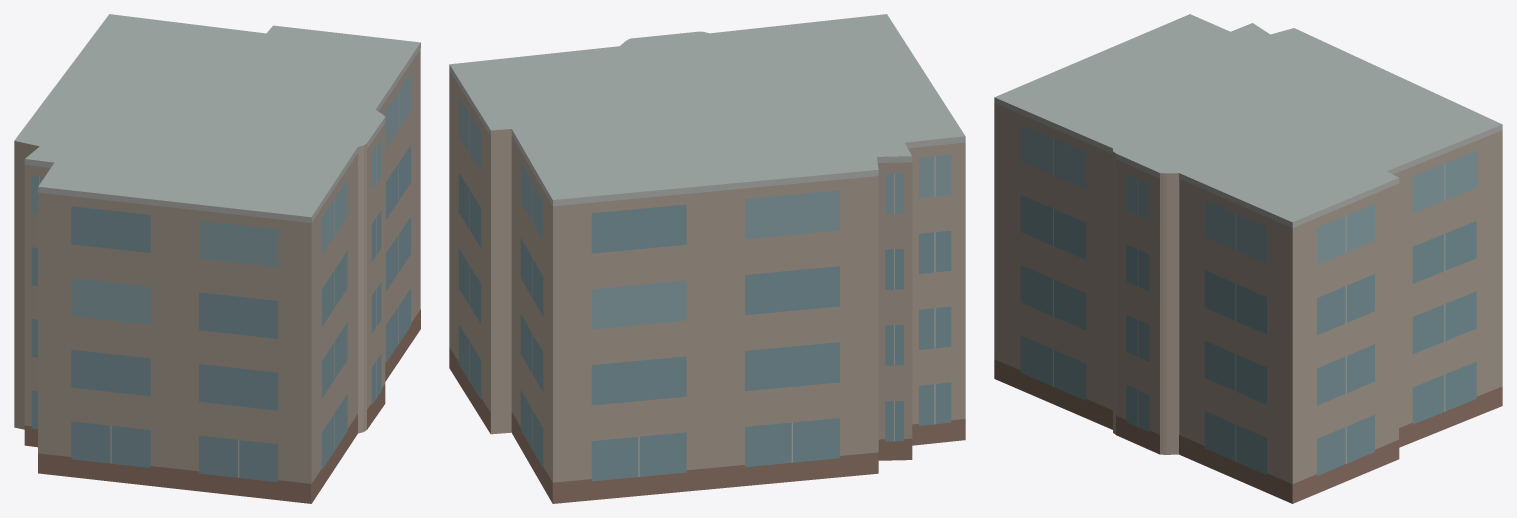
The model's file is survey-upis-32883256.glb.
3 views of the same model, side by side, from view 1: azimuth 30°, elevation 25°; view 2: azimuth 150°, elevation 25°; view 3: azimuth 270°, elevation 25° (orthographic). The views are drawn at different scales.
Visible parts, largest first — view 1: survey-upis-32883256.tmp; view 2: survey-upis-32883256.tmp; view 3: survey-upis-32883256.tmp.
Part boxes in pixels (left/top/right/bottom): survey-upis-32883256.tmp: left=14, top=14, right=420, bottom=503; survey-upis-32883256.tmp: left=449, top=14, right=965, bottom=503; survey-upis-32883256.tmp: left=994, top=14, right=1502, bottom=503.
Bounding box in the file's own units: 19.06 × 12 × 19.64.
